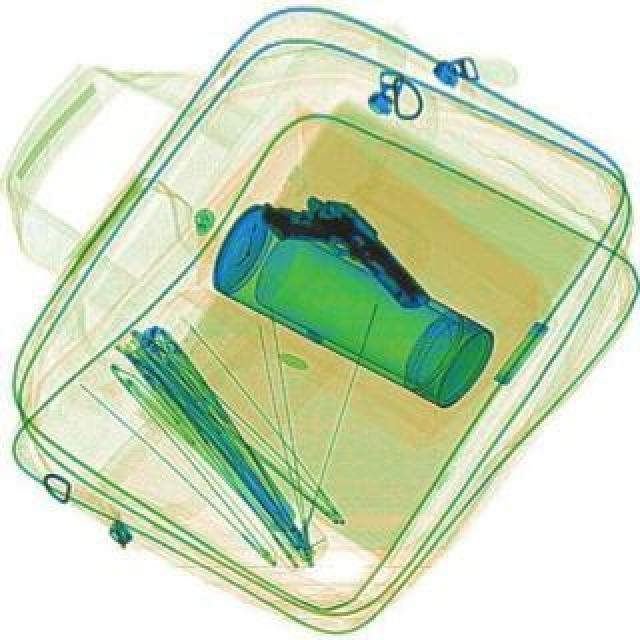gun: (254, 164, 432, 344)
